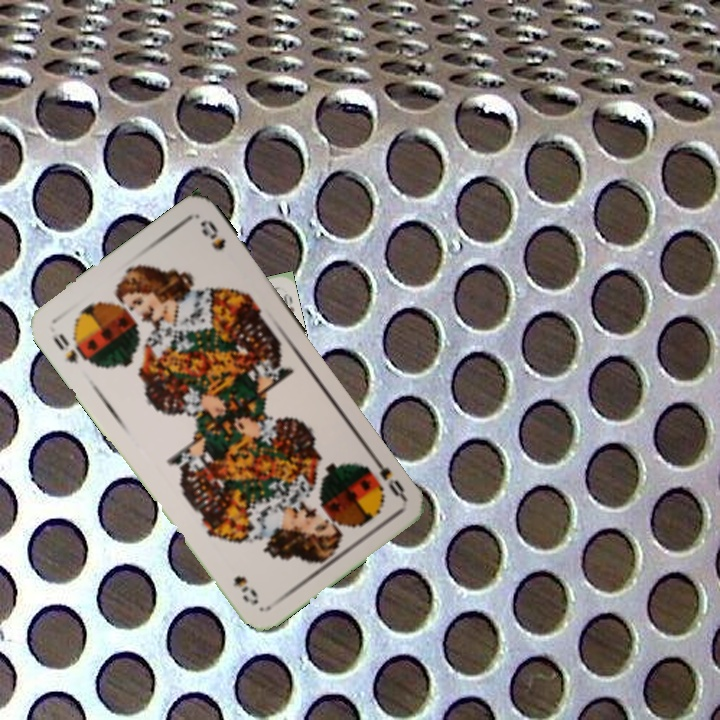SO: (366, 450, 409, 502), (48, 329, 90, 367)
